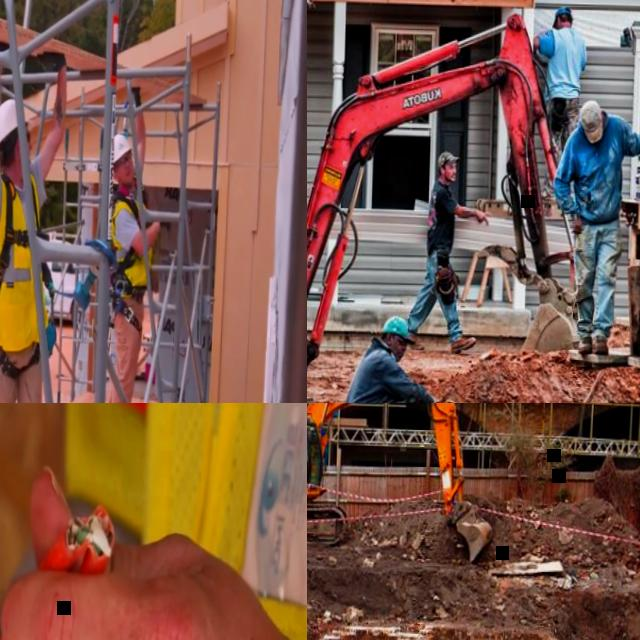Hardhat: (0, 95, 33, 142), (113, 132, 133, 161)
NO-Hardhat: (578, 99, 603, 139), (381, 313, 416, 335), (435, 150, 459, 166), (555, 3, 571, 17)
NO-Mask: (118, 164, 134, 181), (443, 170, 456, 180), (394, 350, 404, 362)
NO-Safety Vest: (576, 114, 624, 219), (351, 349, 394, 403), (549, 24, 581, 95), (427, 184, 454, 247)
Person: (0, 403, 307, 640), (0, 36, 69, 403), (549, 97, 640, 351), (103, 83, 173, 403), (404, 147, 493, 353), (531, 2, 589, 195), (342, 311, 452, 403)
Safety Vest: (59, 403, 307, 640), (0, 171, 51, 351), (110, 184, 155, 286)
vehicle: (307, 2, 583, 403), (307, 403, 496, 559), (0, 232, 114, 319)
